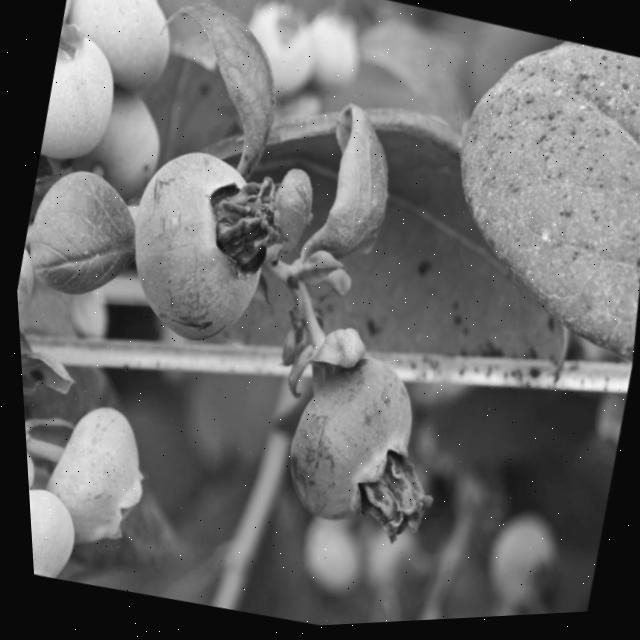RipeBlueBerry: (91, 123, 310, 368), (251, 332, 461, 559)
UnripeBlueBerry: (18, 383, 171, 562), (29, 8, 151, 179), (51, 0, 207, 106), (22, 461, 90, 584), (10, 220, 59, 354), (51, 0, 104, 65)
